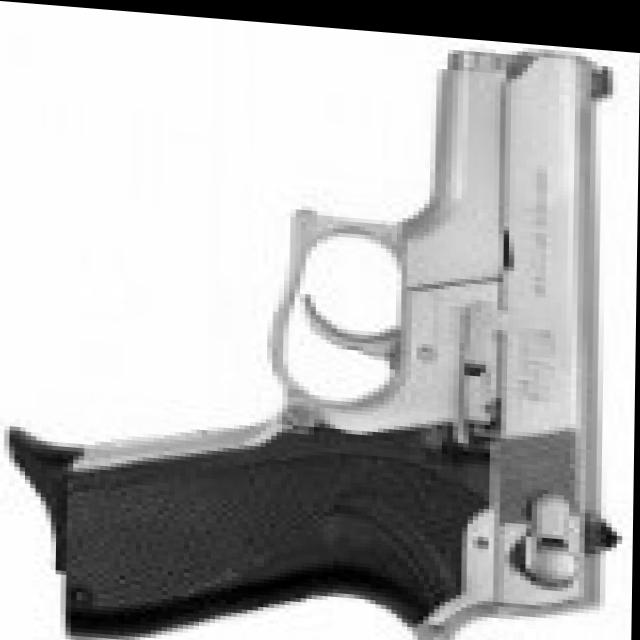handgun: (4, 17, 629, 640)
